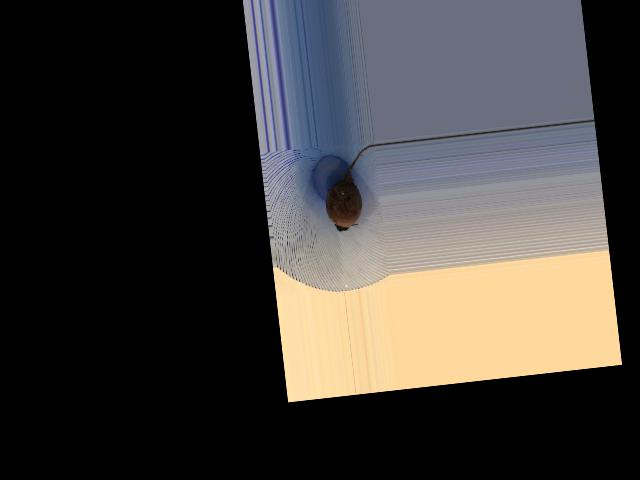beet: (319, 144, 384, 233)
